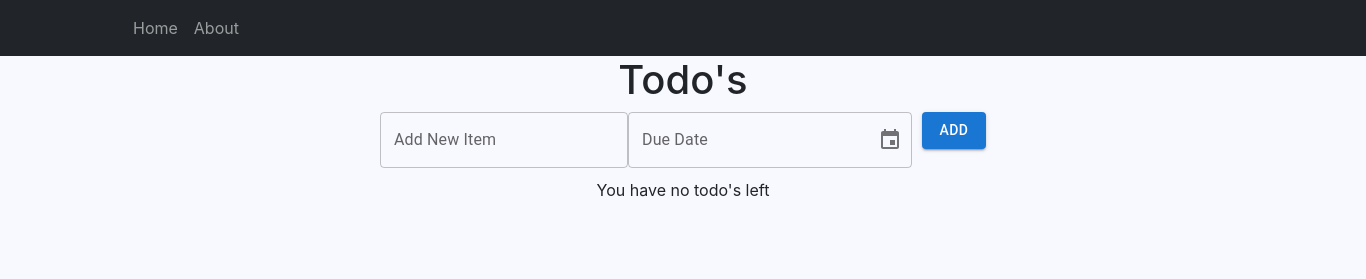
Test: test that App component renders Task
Type "History Test" into the field labelled "Add New Item".
click(504, 140); type("History Test")  # box [380,112,628,168]
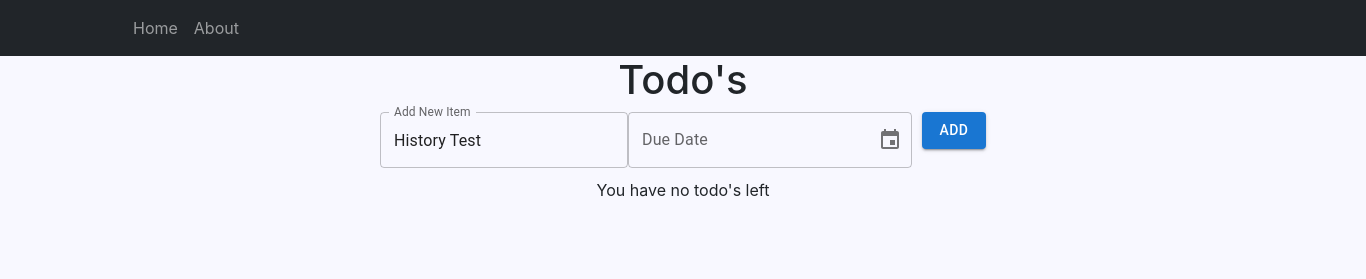
Type "05/30/2023" into the field labelled "Due Date".
click(745, 140); type("05/30/2023")  # box [628,112,862,168]
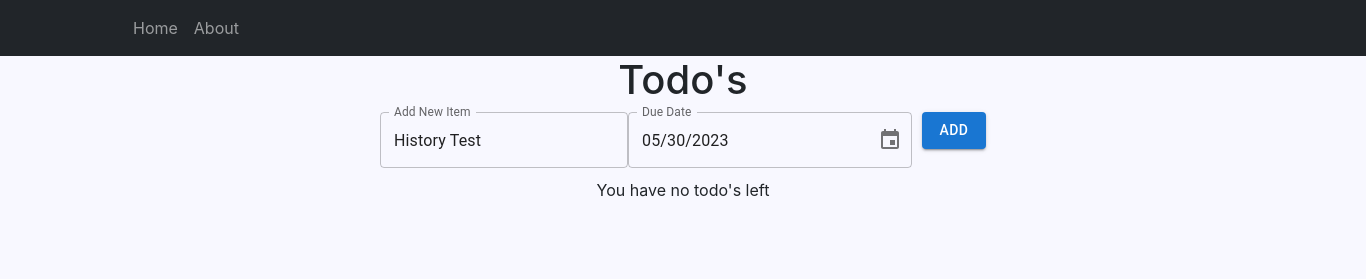
Click the button "Add".
click(954, 130)  # box [922,112,986,148]
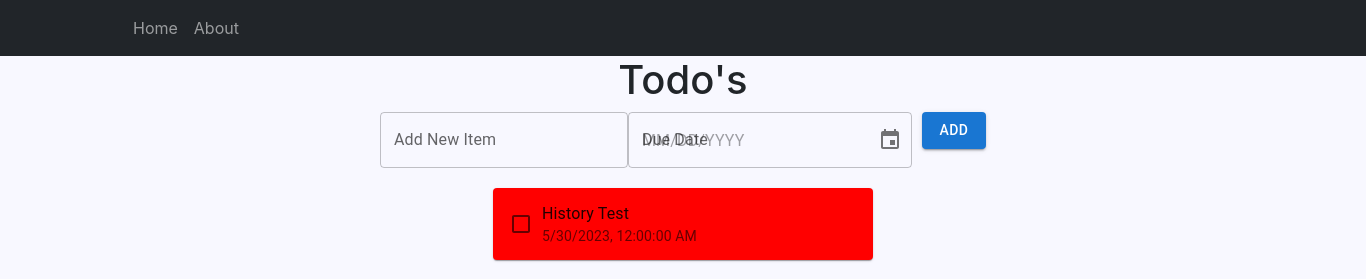
Expected: the text "History Test" is shown, [542,204,629,223]
